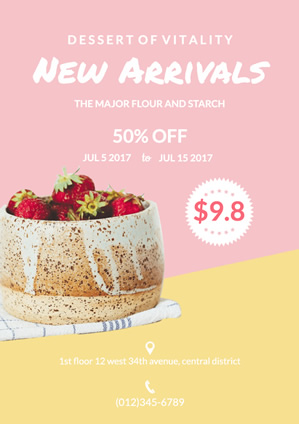Headline: (65, 32, 236, 50)
Price: (193, 195, 246, 227)
Product: (8, 175, 163, 317)
